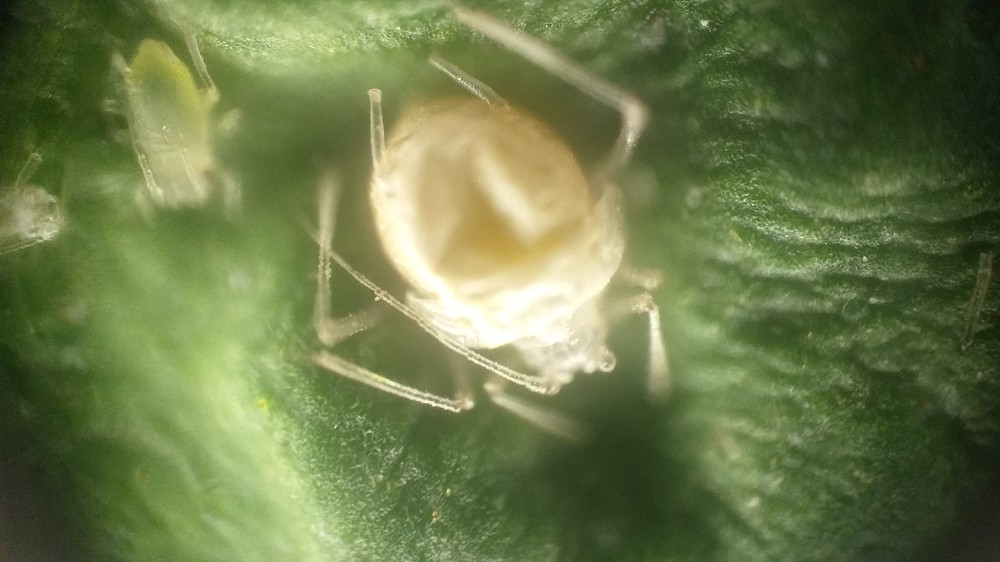Pulgon: (273, 18, 738, 462), (74, 25, 269, 237)
